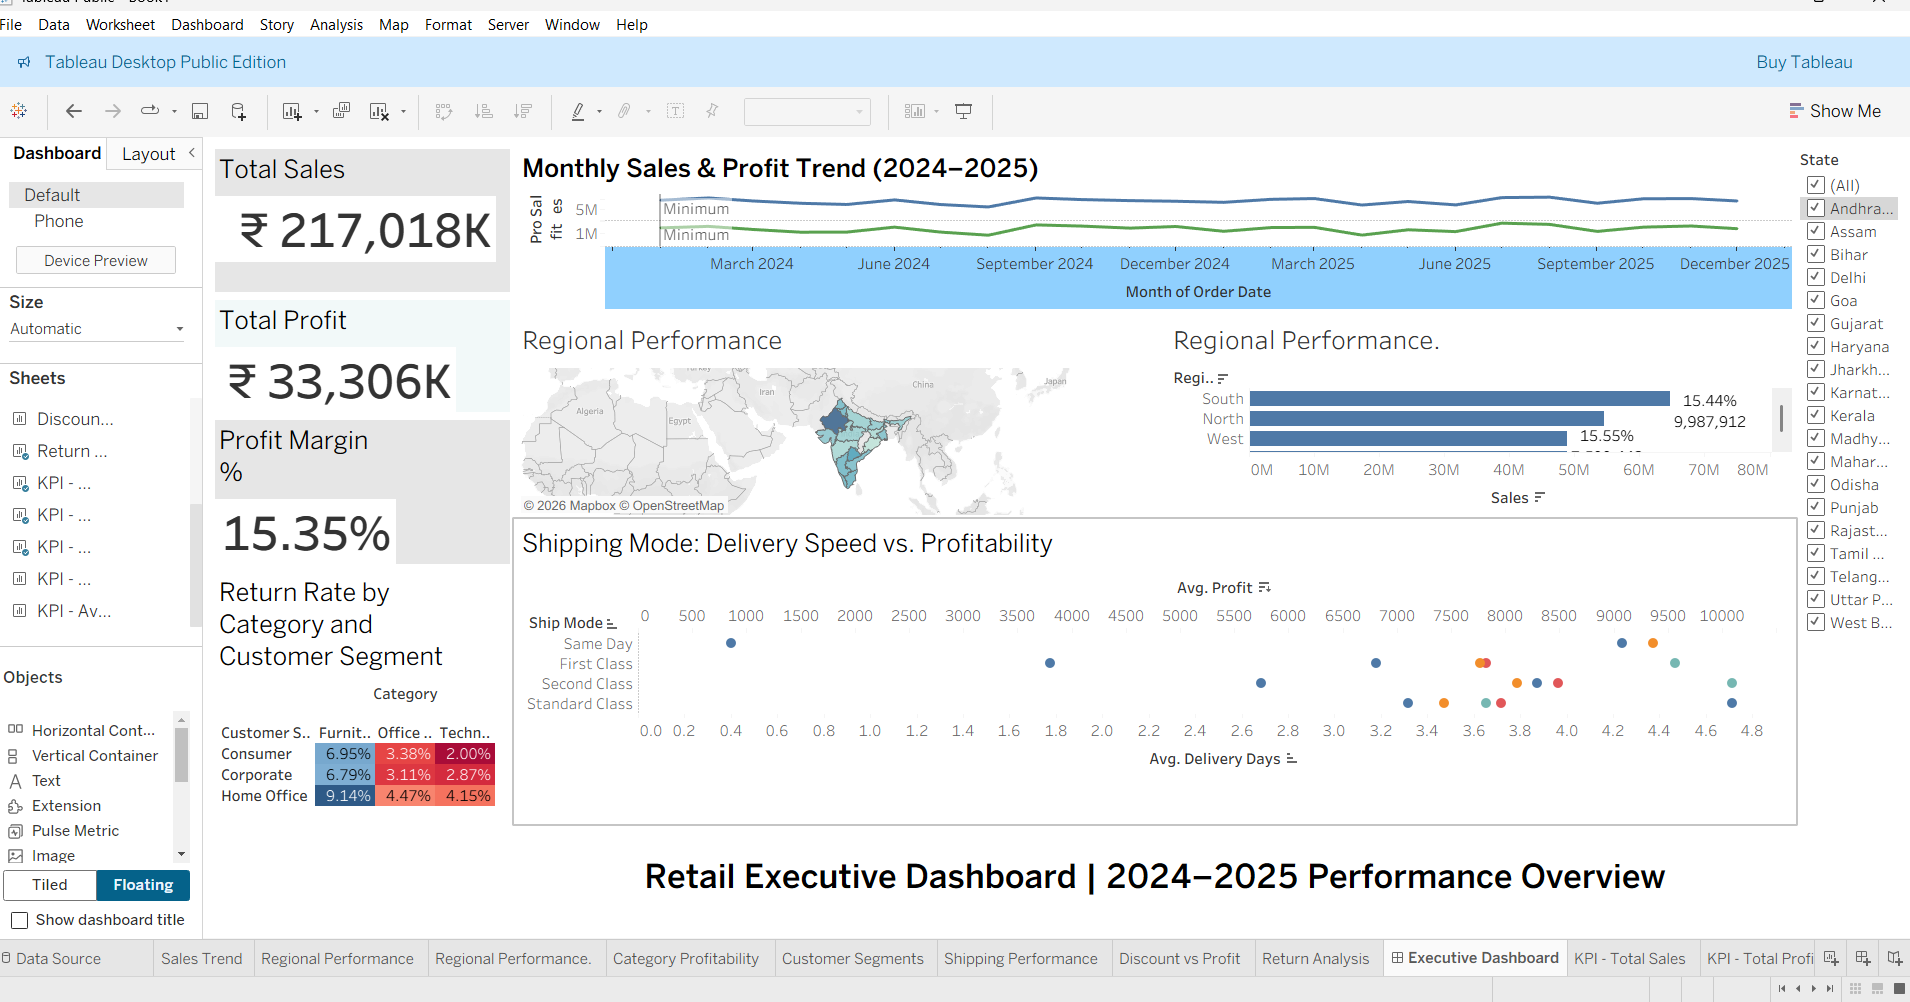

Layout of this report page (visuals, bound fields, positions):
{"tool":"tableau","page":{"name":"Executive Dashboard","canvas":[1000,1000],"units":"permille","ordinal":0},"visuals":[{"type":"worksheet","title":"KPI - Total Sales","mark":"Text","box":[4.7,10,175.5,188.5]},{"type":"worksheet","title":"Sales Trend","mark":"Line","rows":["sales","profit"],"cols":["order_date"],"box":[180.2,10,741.9,211]},{"type":"filter","title":"Return Analysis","param":"[federated.13u5hvn12ujr3a1e22bz60c8mme9].[none:category:nk]","box":[922.1,10,73.2,159.8]},{"type":"filter","title":"Regional Performance.","param":"[federated.13u5hvn12ujr3a1e22bz60c8mme9].[none:region:nk]","box":[922.1,169.8,73.2,188.5]},{"type":"worksheet","title":"KPI - Total Profit","mark":"Text","box":[4.7,198.5,175.5,149.8]},{"type":"worksheet","title":"Regional Performance","mark":"Multipolygon","box":[180.2,220.9,376.8,255.9]},{"type":"worksheet","title":"Regional Performance.","mark":"Automatic","rows":["region"],"cols":["sales"],"box":[557,220.9,365.1,255.9]},{"type":"worksheet","title":"KPI - Profit Margin","mark":"Text","box":[4.7,348.3,175.5,189.8]},{"type":"filter","title":"Return Analysis","param":"[federated.13u5hvn12ujr3a1e22bz60c8mme9].[none:customer_segment:nk]","box":[922.1,358.3,73.2,159.8]},{"type":"worksheet","title":"Shipping Performance","mark":"Automatic","rows":["ship_mode"],"cols":["delivery_days","profit"],"box":[180.2,476.9,741.9,380.8]},{"type":"worksheet","title":"Return Analysis","mark":"Square","rows":["customer_segment"],"cols":["category"],"box":[4.7,538.1,175.5,412]},{"type":"text","box":[180.2,857.6,741.9,132.4]}]}

Visuals, with their boxes on the dashboard's canvas, which has no fixed pixel size, in thousandths of its width and height (x1, y1, x2, y2). These are canvas units, not pixel positions in the 1910x1002 screenshot, which may show the page scaled, cropped or inside an application window:
"KPI - Total Sales" worksheet (Text marks): [5, 10, 180, 198]
"Sales Trend" worksheet (Line marks): [180, 10, 922, 221]
"Return Analysis" filter: [922, 10, 995, 170]
"Regional Performance." filter: [922, 170, 995, 358]
"KPI - Total Profit" worksheet (Text marks): [5, 198, 180, 348]
"Regional Performance" worksheet (Multipolygon marks): [180, 221, 557, 477]
"Regional Performance." worksheet: [557, 221, 922, 477]
"KPI - Profit Margin" worksheet (Text marks): [5, 348, 180, 538]
"Return Analysis" filter: [922, 358, 995, 518]
"Shipping Performance" worksheet: [180, 477, 922, 858]
"Return Analysis" worksheet (Square marks): [5, 538, 180, 950]
text: [180, 858, 922, 990]
